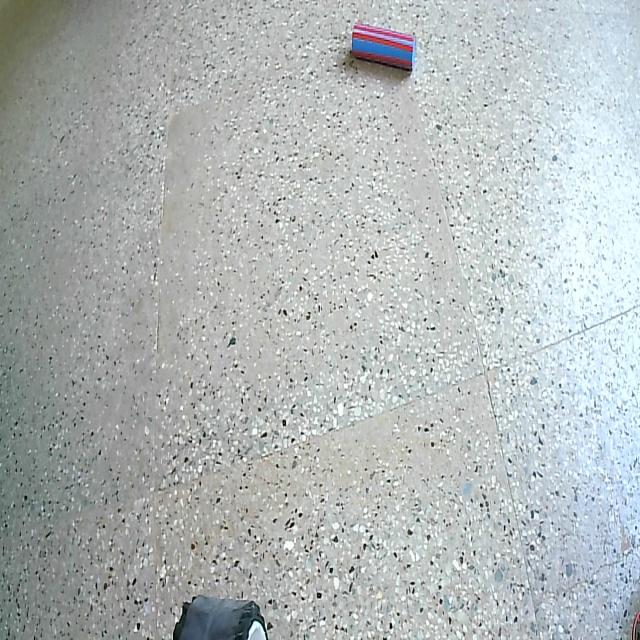cylinder: (342, 14, 423, 81)
